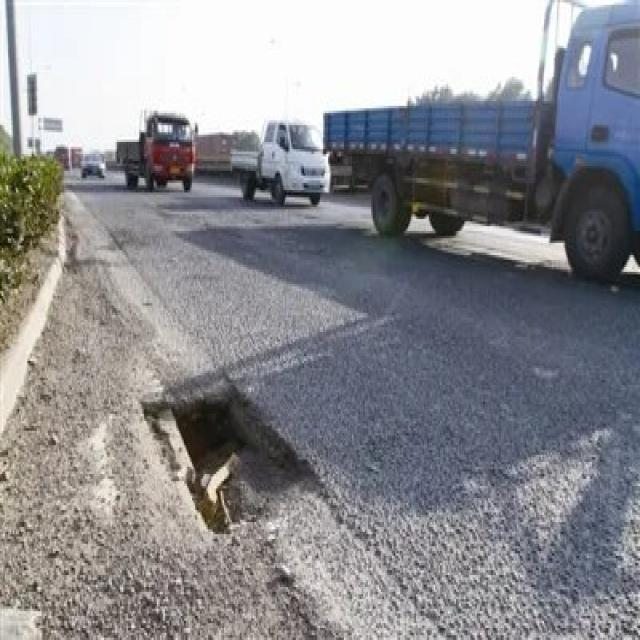Buraco: (136, 365, 354, 549)
